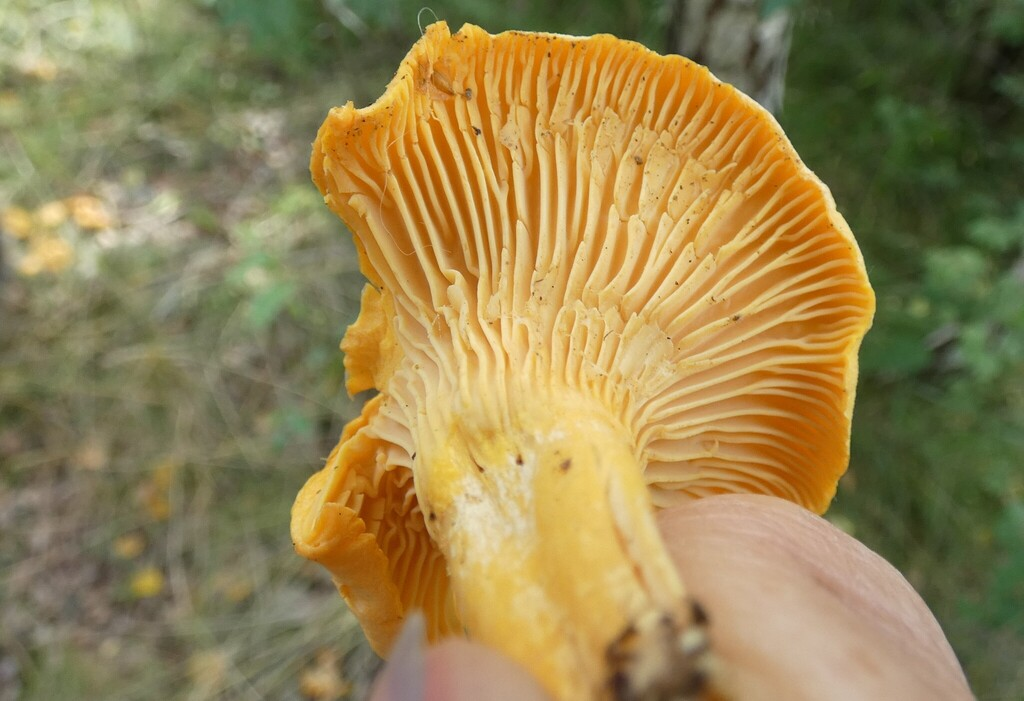stem: (415, 402, 689, 698)
underside: (313, 22, 874, 630)
